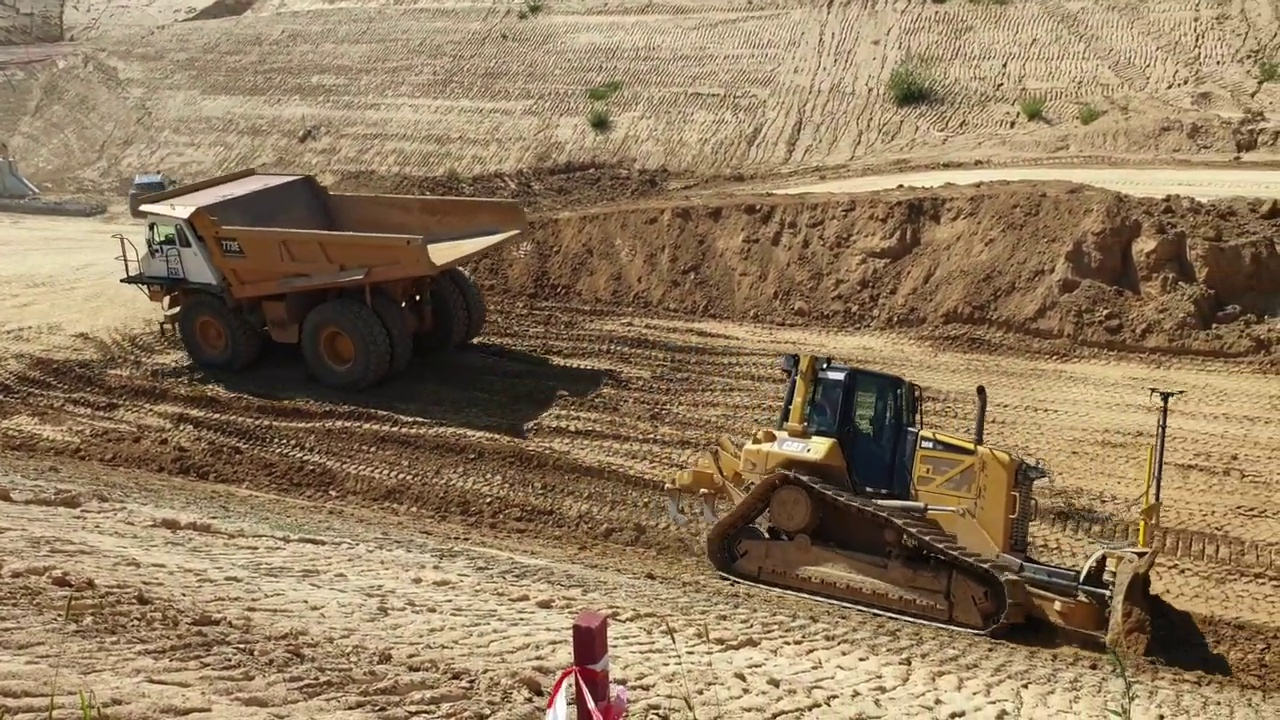bulldozer: (666, 343, 1191, 664)
truck: (109, 162, 536, 396)
